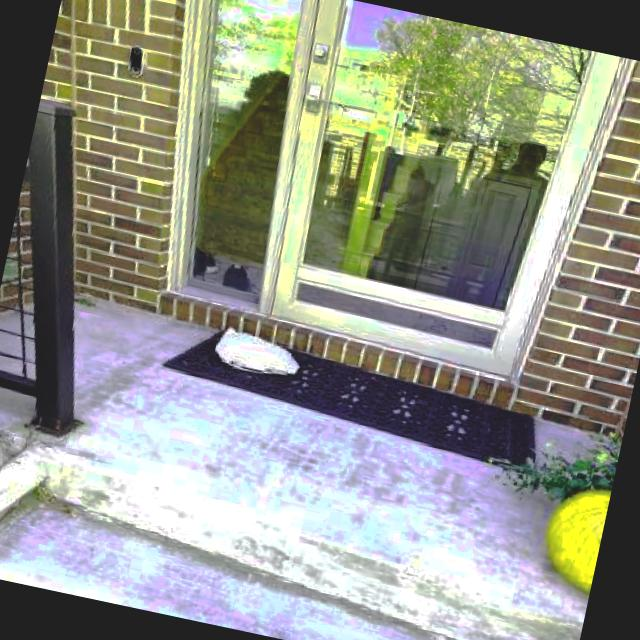Box: (212, 324, 302, 382)
